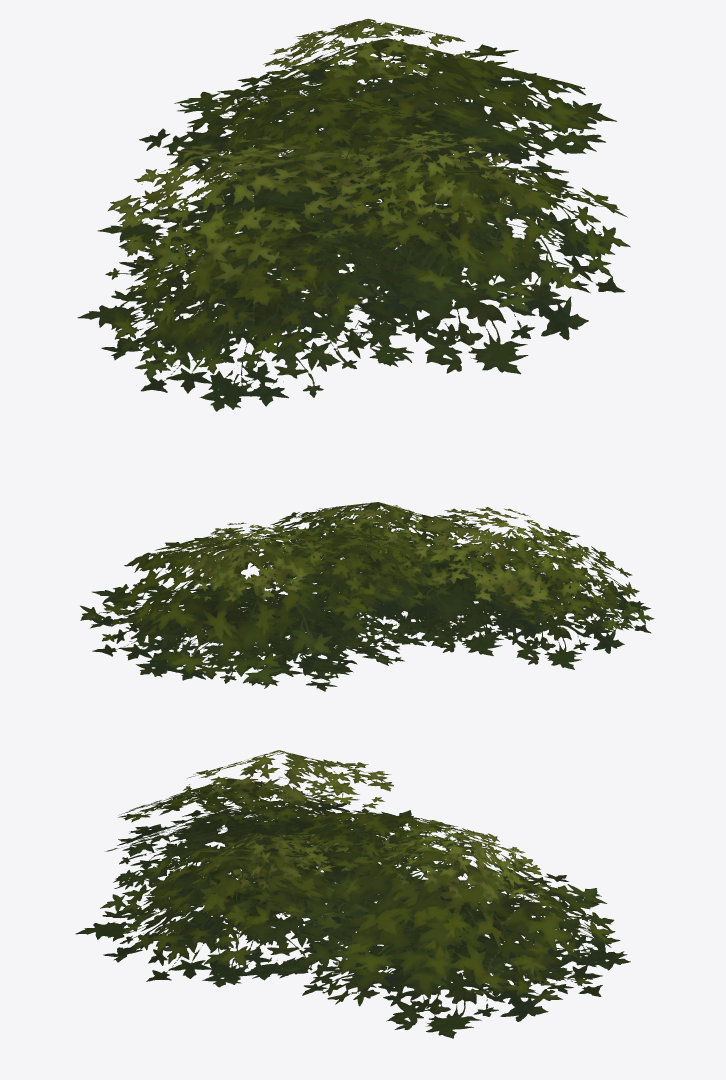
The model's file is gonggong_bushes03.FBX.
3 views of the same model, one above another, from view 1: azimuth 30°, elevation 25°; view 2: azimuth 150°, elevation 25°; view 3: azimuth 270°, elevation 25° (orthographic). The views are drawn at different scales.
Parts seen in each view (by area): view 1: DrawCall_0047; view 2: DrawCall_0047; view 3: DrawCall_0047.
Boxes of the visible parts, x1,y1,x2,y2 form: DrawCall_0047: (77,18,630,411); DrawCall_0047: (80,502,654,691); DrawCall_0047: (75,750,630,1038).
Bounding box in the file's own units: 520 × 118 × 525.
